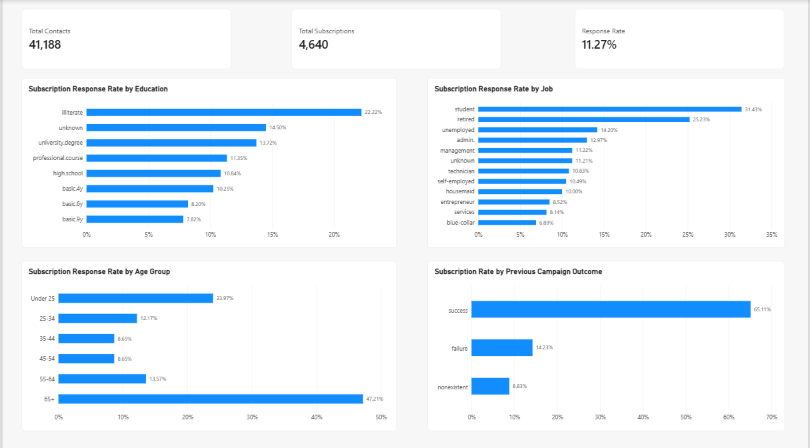

Layout of this report page (visuals, bound fields, positions):
{"tool":"powerbi","page":{"name":"Customer Analysis","canvas":[1920,1080],"ordinal":1},"visuals":[{"type":"cardVisual","fields":{"Data":["CampaignContacts.Total Contacts"]},"box":[45.3,21.5,500,143.2],"z":0},{"type":"cardVisual","fields":{"Data":["CampaignContacts.Total Subscriptions"]},"box":[689.5,21.5,500,143],"z":1},{"type":"cardVisual","fields":{"Data":["CampaignContacts.Response Rate"]},"box":[1364.7,21.5,500,143],"z":2},{"type":"clusteredBarChart","title":"Subscription Response Rate by Education","fields":{"Category":["CampaignContacts.education"],"Y":["CampaignContacts.Response Rate"]},"box":[45.3,186.1,894.7,405.6],"z":3},{"type":"clusteredBarChart","title":"Subscription Response Rate by Job","fields":{"Category":["CampaignContacts.job"],"Y":["CampaignContacts.Response Rate"]},"box":[1014,186.1,851.8,405.6],"z":4},{"type":"clusteredBarChart","title":"Subscription Rate by Previous Campaign Outcome","fields":{"Category":["CampaignContacts.poutcome"],"Y":["CampaignContacts.Response Rate"]},"box":[1014,622.7,851.8,405.6],"z":5},{"type":"clusteredBarChart","title":"Subscription Response Rate by Age Group","fields":{"Category":["CampaignContacts.Age Group"],"Y":["CampaignContacts.Response Rate"]},"box":[45.3,622.7,894.7,405.6],"z":6}]}

Visuals, with their boxes in screenshot pixels (x1, y1, x2, y2), scaled from the page's 1920x1080 canvas onto the 810x448 screenshot:
cardVisual - CampaignContacts.Total Contacts: bbox=[19, 9, 230, 68]
cardVisual - CampaignContacts.Total Subscriptions: bbox=[291, 9, 502, 68]
cardVisual - CampaignContacts.Response Rate: bbox=[576, 9, 787, 68]
"Subscription Response Rate by Education" clusteredBarChart: bbox=[19, 77, 397, 245]
"Subscription Response Rate by Job" clusteredBarChart: bbox=[428, 77, 787, 245]
"Subscription Rate by Previous Campaign Outcome" clusteredBarChart: bbox=[428, 258, 787, 427]
"Subscription Response Rate by Age Group" clusteredBarChart: bbox=[19, 258, 397, 427]
